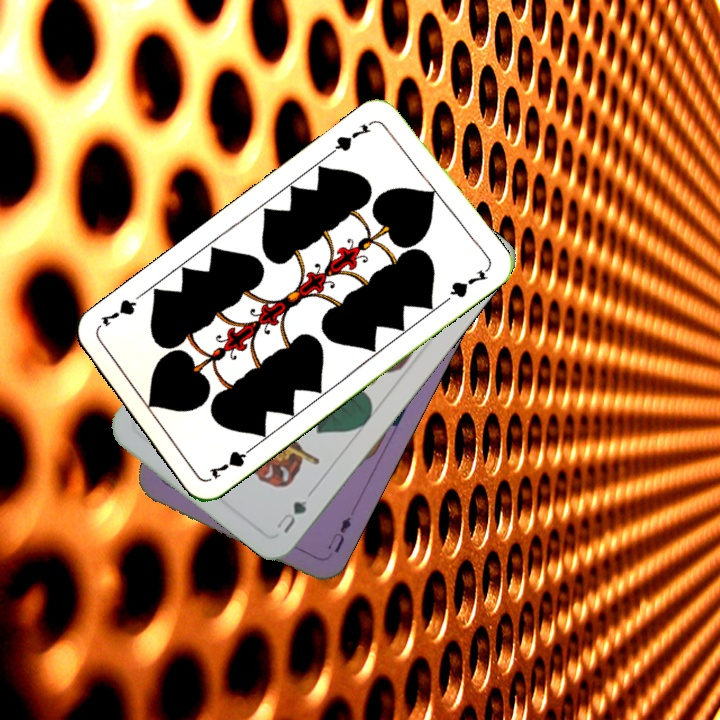EU: (323, 512, 354, 556)
G7: (205, 440, 259, 482), (327, 116, 378, 157)
GU: (272, 496, 310, 536)
